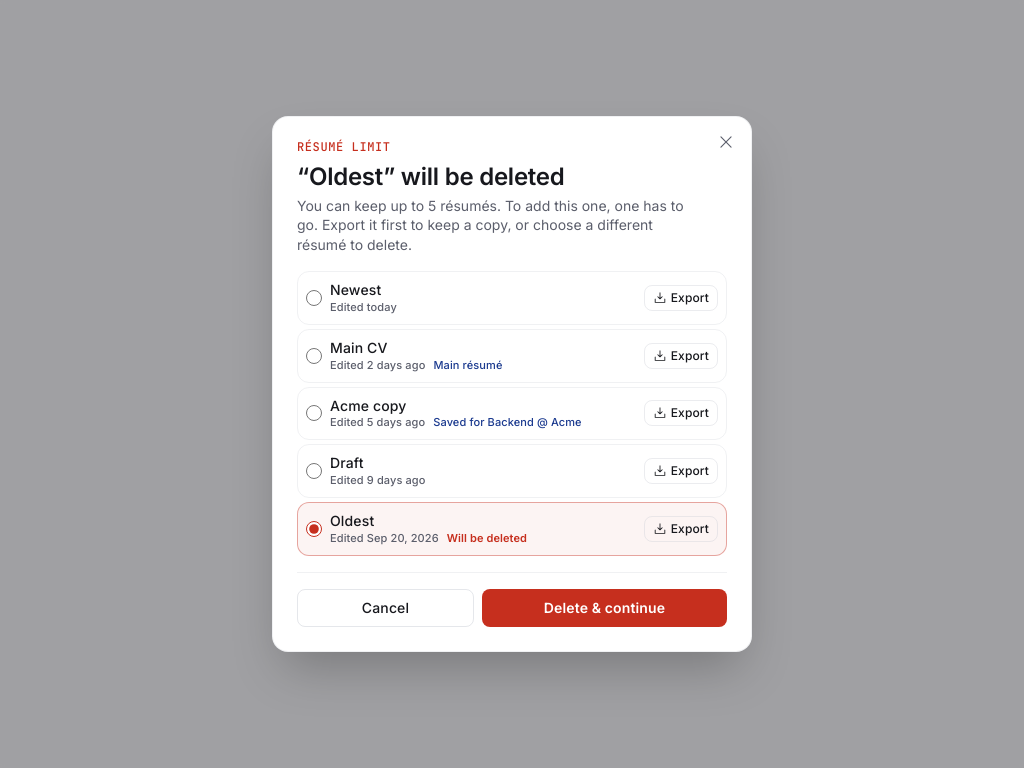
Test: ResumeLimitModal › a failed delete says so and keeps the popup open
Click the button "Delete & continue" at (604, 608), box [482, 589, 727, 627]
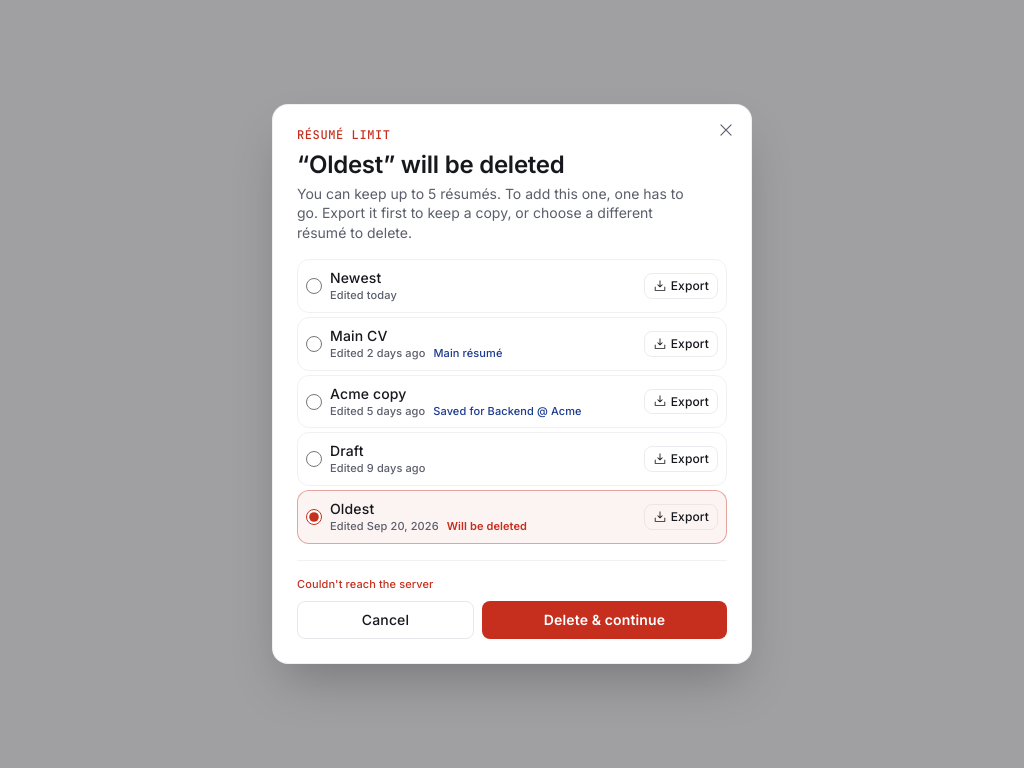
Check: the message reads "Couldn't reach the server", box [297, 577, 434, 591]
